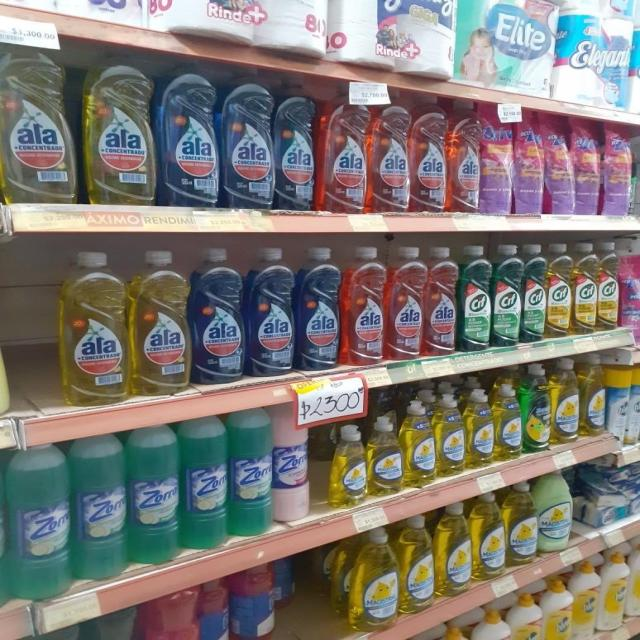ala_conc_amarillo: (1, 44, 76, 204), (59, 248, 128, 406), (82, 58, 154, 207), (131, 247, 190, 397)
ala_conc_azul: (159, 65, 219, 208), (192, 245, 245, 386), (222, 71, 273, 210), (247, 245, 295, 377), (274, 76, 316, 212), (296, 245, 341, 371)
ala_conc_rojo: (320, 94, 368, 214), (342, 245, 386, 366), (368, 99, 410, 214), (386, 245, 424, 361), (410, 97, 447, 215), (448, 101, 481, 215), (424, 246, 458, 356)
cif_conc_bot_amarilla: (548, 243, 572, 339), (573, 242, 597, 335), (598, 240, 618, 332)
cif_conc_botella_verde: (459, 245, 491, 352), (493, 244, 522, 347), (523, 244, 546, 344)
magistral_con_amarillo: (350, 528, 398, 632), (400, 514, 434, 614), (436, 501, 470, 597), (329, 423, 366, 508), (472, 490, 504, 581), (368, 416, 402, 497), (404, 399, 434, 488), (507, 481, 537, 568), (436, 393, 464, 476), (552, 358, 579, 444), (466, 388, 493, 468), (580, 354, 606, 437), (495, 384, 521, 462)
magistral_con_crema: (538, 469, 573, 554)
